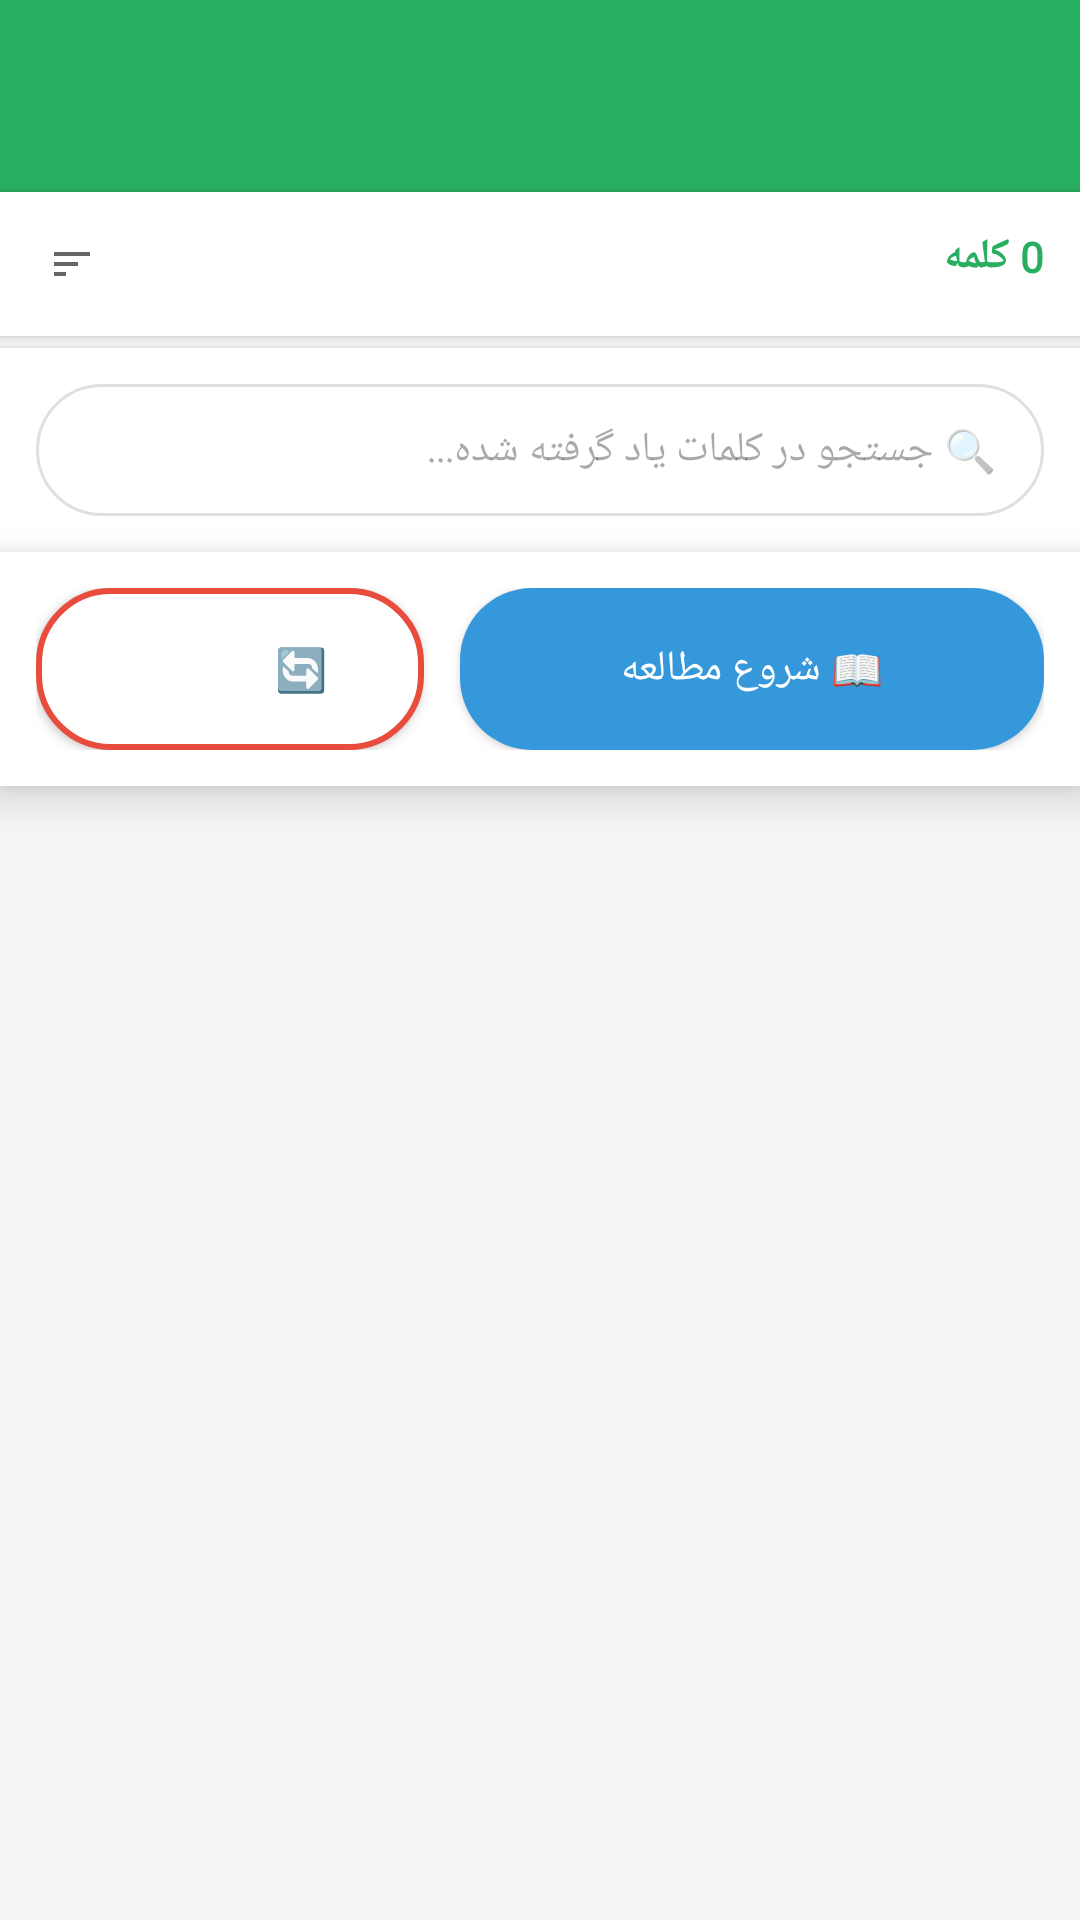

Icon bounding boxes for this 1080px×1920px phone screenshot, format (x1, y1, x2, y2):
sort: (54, 252, 90, 276)
